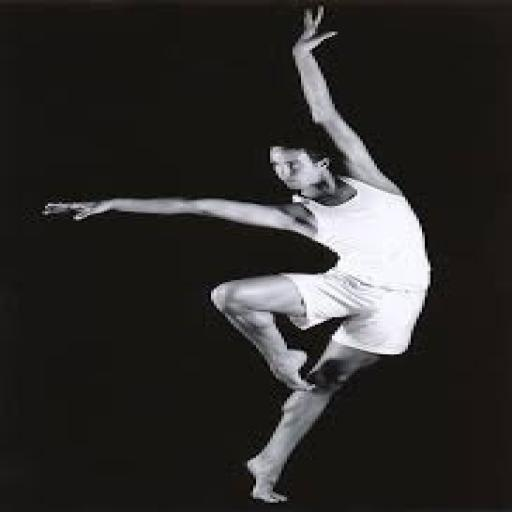dancing: (39, 4, 436, 506)
